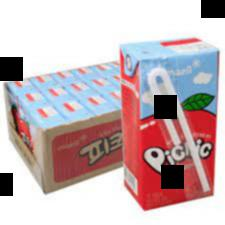picnic_apple: (118, 39, 213, 207)
